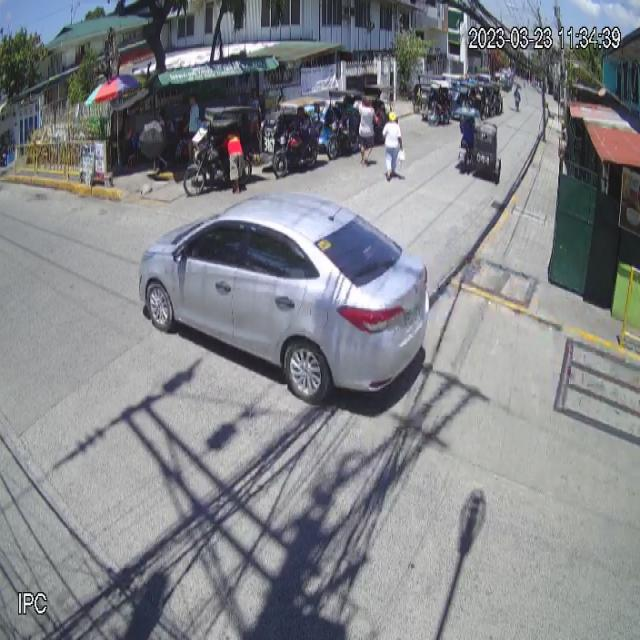Car: (138, 193, 430, 407)
